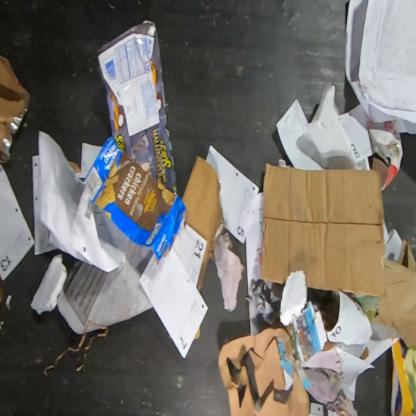cardboard: (262, 162, 388, 297), (97, 20, 178, 197), (218, 326, 311, 415), (182, 156, 225, 292), (0, 54, 31, 164), (67, 160, 81, 173), (194, 327, 200, 340)
soft_plastic: (10, 115, 24, 134)
